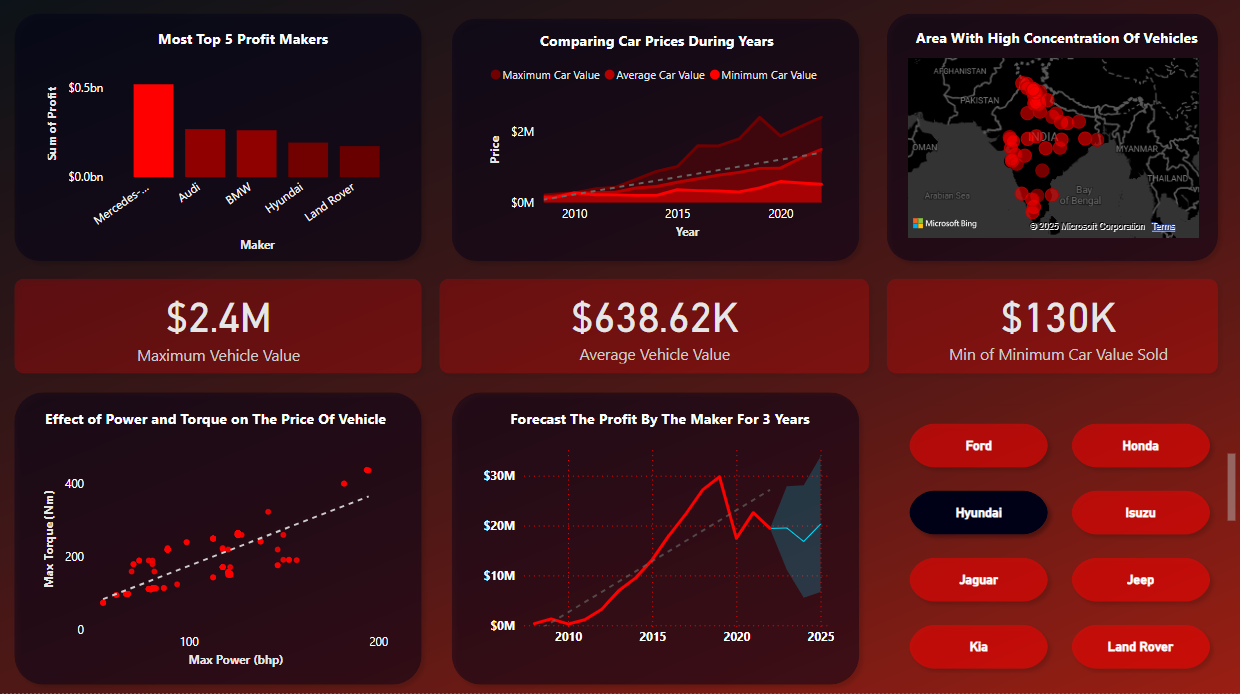

The page's visual inventory and layout, read from the dashboard file:
{"tool":"powerbi","page":{"name":"Main","canvas":[1280,720],"ordinal":0},"visuals":[{"type":"shape","box":[12.8,402.6,435.9,317.9],"z":0},{"type":"shape","box":[907.7,14.1,357.7,271.8],"z":1000},{"type":"textbox","box":[938.5,32.1,309,34.6],"z":2000},{"type":"map","fields":{"Category":["City_Vehicle_Usages.Location"],"Size":["CountNonNull(City_Vehicle_Usages.Number Of Vehicles Sold)"]},"box":[933.3,64.1,309,193.6],"z":3000},{"type":"scatterChart","fields":{"Y":["Vehicles_Dataset.Max Torque (Nm)"],"X":["Vehicles_Dataset.Max Power (bhp)"],"Category":["Vehicles_Dataset.Price"]},"box":[47.4,453.8,362.8,244.9],"z":4000},{"type":"textbox","box":[43.6,423.1,369.2,34.6],"z":5000},{"type":"shape","box":[12.8,14.4,435.9,271.8],"z":6000},{"type":"columnChart","fields":{"Y":["Sum(City_Vehicle_Usages.Profit)"],"Category":["City_Vehicle_Usages.Make"]},"box":[51.3,66.7,373.1,206.4],"z":7000},{"type":"textbox","box":[152.6,33.3,207.7,32.1],"z":8000},{"type":"shape","box":[12.8,285.9,435.9,115.4],"z":9000},{"type":"shape","box":[448.7,285.9,459,115.4],"z":10000},{"type":"shape","box":[907.7,285.9,357.7,115.4],"z":11000},{"type":"shape","box":[461.5,19.2,435.9,266.7],"z":12000},{"type":"areaChart","fields":{"Category":["Makers_Profit_Per_Year.Year"],"Y":["Sum(Makers_Profit_Per_Year.Maximum_Vehicles_Value_Sold_Per_Year)","Sum(Makers_Profit_Per_Year.Avarege_Vehicles_Value_Sold_Per_Year)","Sum(Makers_Profit_Per_Year.Minimum_Vehicles_Value_Sold_Per_Year)"]},"box":[505.1,66.7,362.8,193.6],"z":13000},{"type":"shape","box":[461.5,402.6,435.9,317.9],"z":14000},{"type":"textbox","box":[496.2,35.9,369.2,34.6],"z":15000},{"type":"card","fields":{"Values":["Max(Makers_Profit_Per_Year.Maximum_Vehicles_Value_Sold_Per_Year)"]},"box":[50,294.9,362.8,93.6],"z":16000},{"type":"card","fields":{"Values":["Avg(Makers_Profit_Per_Year.Avarege_Vehicles_Value_Sold_Per_Year)"]},"box":[497.4,294.9,362.8,92.3],"z":17000},{"type":"card","fields":{"Values":["Min(Makers.Minimum Car Value Sold)"]},"box":[941,294.9,303.8,92.3],"z":18000},{"type":"lineChart","title":"Forecast The Profit By The Maker For 3 Years","fields":{"Y":["Sum(Vehicles_Dataset.Price)"],"Category":["Vehicles_Dataset.Year"]},"box":[497.4,457.7,370.5,223.1],"z":19000},{"type":"advancedSlicerVisual","fields":{"Values":["Makers.Make"]},"box":[923.1,419.2,356.4,288.5],"z":20000},{"type":"textbox","box":[521.8,423.1,324.4,30.8],"z":21000}]}

Visuals, with their boxes in screenshot pixels (x1, y1, x2, y2), scaled from the page's 1280x720 canvas onto the 1240x694 screenshot:
shape: bbox=(12, 388, 435, 693)
shape: bbox=(879, 14, 1226, 276)
textbox: bbox=(909, 31, 1209, 64)
map - City_Vehicle_Usages.Location x CountNonNull(City_Vehicle_Usages.Number Of Vehicles Sold): bbox=(904, 62, 1203, 248)
scatterChart - Vehicles_Dataset.Max Torque (Nm) x Vehicles_Dataset.Max Power (bhp): bbox=(46, 437, 397, 673)
textbox: bbox=(42, 408, 400, 441)
shape: bbox=(12, 14, 435, 276)
columnChart - Sum(City_Vehicle_Usages.Profit) x City_Vehicle_Usages.Make: bbox=(50, 64, 411, 263)
textbox: bbox=(148, 32, 349, 63)
shape: bbox=(12, 276, 435, 387)
shape: bbox=(435, 276, 879, 387)
shape: bbox=(879, 276, 1226, 387)
shape: bbox=(447, 19, 869, 276)
areaChart - Makers_Profit_Per_Year.Year x Sum(Makers_Profit_Per_Year.Maximum_Vehicles_Value_Sold_Per_Year): bbox=(489, 64, 841, 251)
shape: bbox=(447, 388, 869, 693)
textbox: bbox=(481, 35, 838, 68)
card - Max(Makers_Profit_Per_Year.Maximum_Vehicles_Value_Sold_Per_Year): bbox=(48, 284, 400, 374)
card - Avg(Makers_Profit_Per_Year.Avarege_Vehicles_Value_Sold_Per_Year): bbox=(482, 284, 833, 373)
card - Min(Makers.Minimum Car Value Sold): bbox=(912, 284, 1206, 373)
"Forecast The Profit By The Maker For 3 Years" lineChart: bbox=(482, 441, 841, 656)
advancedSlicerVisual - Makers.Make: bbox=(894, 404, 1239, 682)
textbox: bbox=(505, 408, 820, 438)
